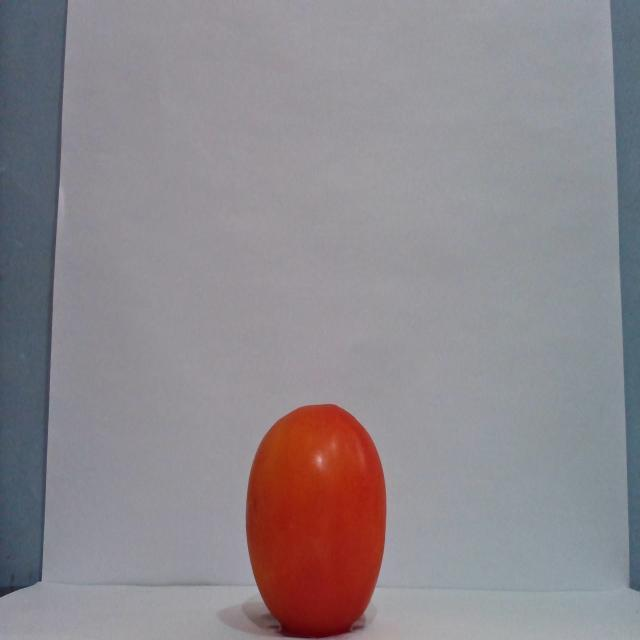Red: (244, 402, 387, 636)
